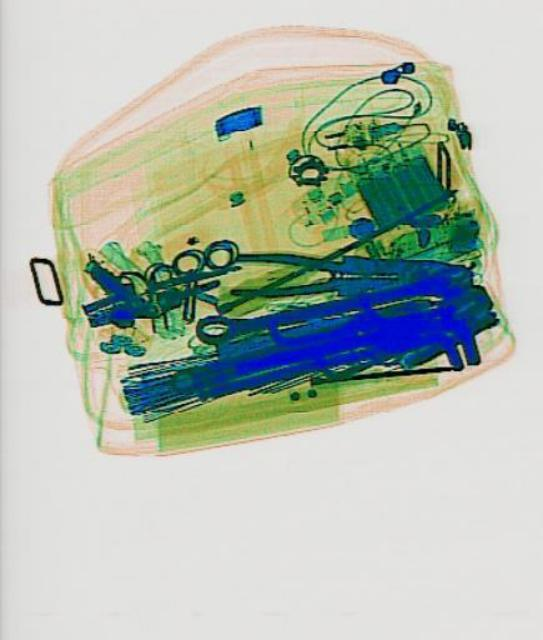Pliers: (227, 248, 462, 300)
Wrench: (190, 262, 467, 348)
